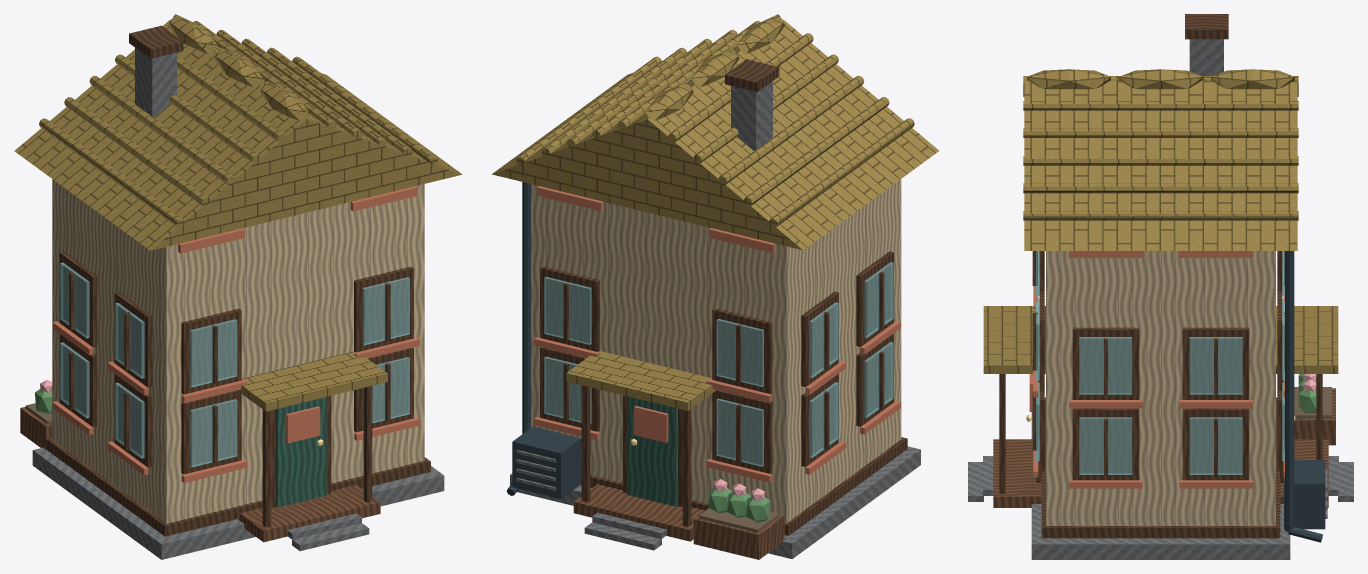
The model's file is house_cottage_lv3.glb.
3 renders of one model, left to right at view 1: azimuth 30°, elevation 25°; view 2: azimuth 150°, elevation 25°; view 3: azimuth 270°, elevation 25°, orthographic.
Visible parts, largest first — view 1: walls, gable_roof, foundation, front_porch_canopy, front_door, floor_trim, front_window_frame.002, front_window_frame, front_window_frame.003, front_deck, front_window_frame.001, front_window_glass.003 (+38 smaller); view 2: walls, gable_roof, back_porch_canopy, foundation, back_door, back_window_frame.002, back_window_frame.003, back_window_frame, back_ac_unit, back_deck, back_window_frame.001, back_garden_bed (+41 smaller); view 3: walls, gable_roof, foundation, right_window_frame.002, right_window_frame.003, right_window_frame, right_window_frame.001, floor_trim, front_porch_canopy, back_porch_canopy, thatch_course.008, right_window_glass.001 (+32 smaller).
Part boxes in pixels (x1,y1,x2,y2): walls: (52, 179, 424, 523); gable_roof: (14, 19, 462, 250); foundation: (32, 447, 444, 559); front_porch_canopy: (237, 351, 387, 411); front_door: (276, 397, 326, 507); floor_trim: (46, 438, 430, 536); front_window_frame.002: (181, 308, 241, 394); front_window_frame: (181, 390, 241, 474); front_window_frame.003: (354, 266, 413, 352); front_deck: (238, 485, 380, 542); front_window_frame.001: (354, 347, 413, 432); front_window_glass.003: (362, 277, 409, 345); walls: (531, 179, 901, 522); gable_roof: (492, 19, 938, 250); back_porch_canopy: (566, 351, 716, 410); foundation: (510, 446, 920, 558); back_door: (627, 396, 677, 506); back_window_frame.002: (712, 308, 772, 393); back_window_frame.003: (540, 266, 599, 351); back_window_frame: (712, 390, 772, 473); back_ac_unit: (512, 426, 581, 498); back_deck: (573, 484, 704, 541); back_window_frame.001: (540, 347, 599, 431); back_garden_bed: (693, 508, 784, 559); walls: (1046, 251, 1275, 525); gable_roof: (1024, 80, 1297, 250); foundation: (1031, 412, 1290, 559); right_window_frame.002: (1072, 327, 1139, 399); right_window_frame.003: (1182, 327, 1249, 399); right_window_frame: (1072, 408, 1139, 480); right_window_frame.001: (1182, 408, 1249, 480); floor_trim: (1041, 397, 1280, 538); front_porch_canopy: (983, 306, 1045, 373); back_porch_canopy: (1276, 306, 1338, 373); thatch_course.008: (1023, 183, 1298, 193); right_window_glass.001: (1189, 417, 1242, 474).
Bounding box in the file's own units: 3.15 × 4.22 × 3.36.
13 materials, 7 textured.
